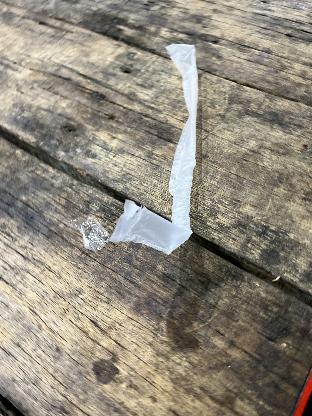Others: (115, 38, 210, 248), (78, 218, 115, 252)
